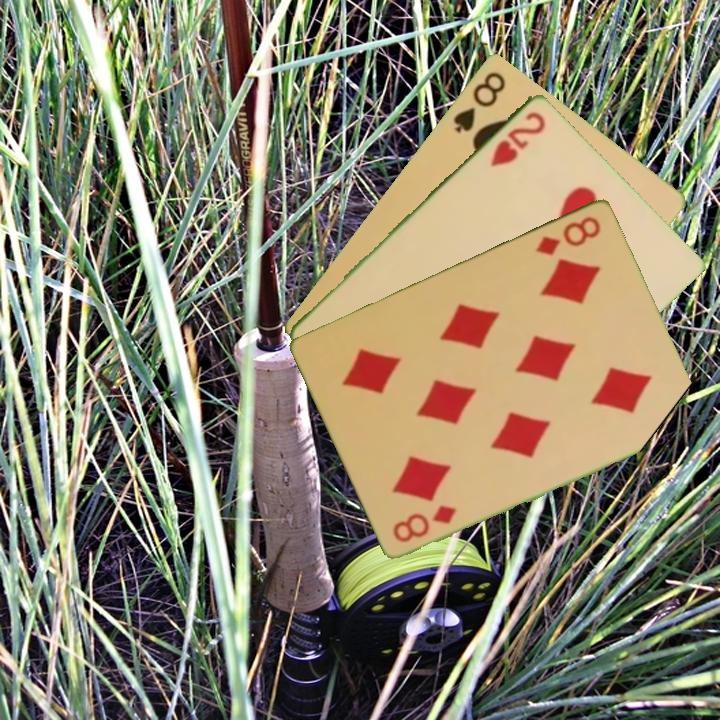2h: (486, 107, 549, 170)
8d: (532, 212, 604, 258), (389, 501, 460, 545)
8s: (449, 67, 509, 136)
